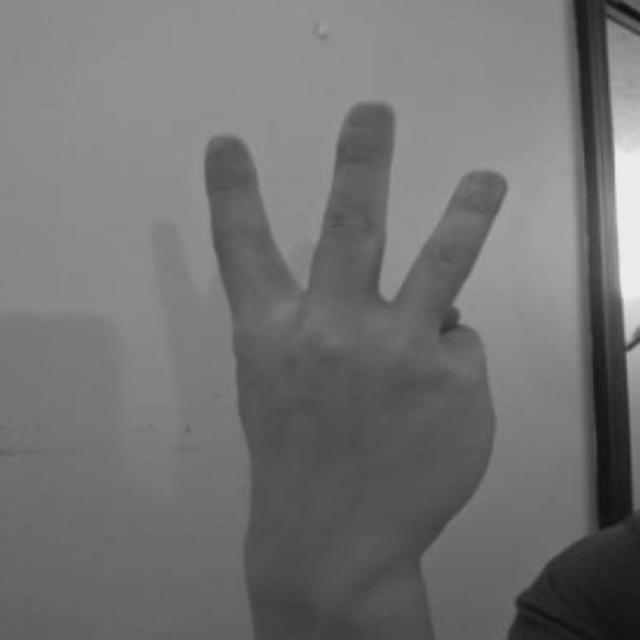W: (191, 99, 528, 640)
